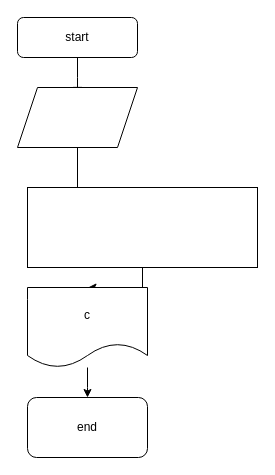
The diagram is 275 pixels wide and 475 high, and some of its shapes have lost their labels. The shapes that lost their labels are listed below. From the top down, each one's centre as x and y in pixels, then its label:
point 77,117: a = 2345; b = 3456789;
point 142,227: c = a * 4 / 100.0; d = b * 9 / 100.0; e = (c + d) * 10 / 100.0;
